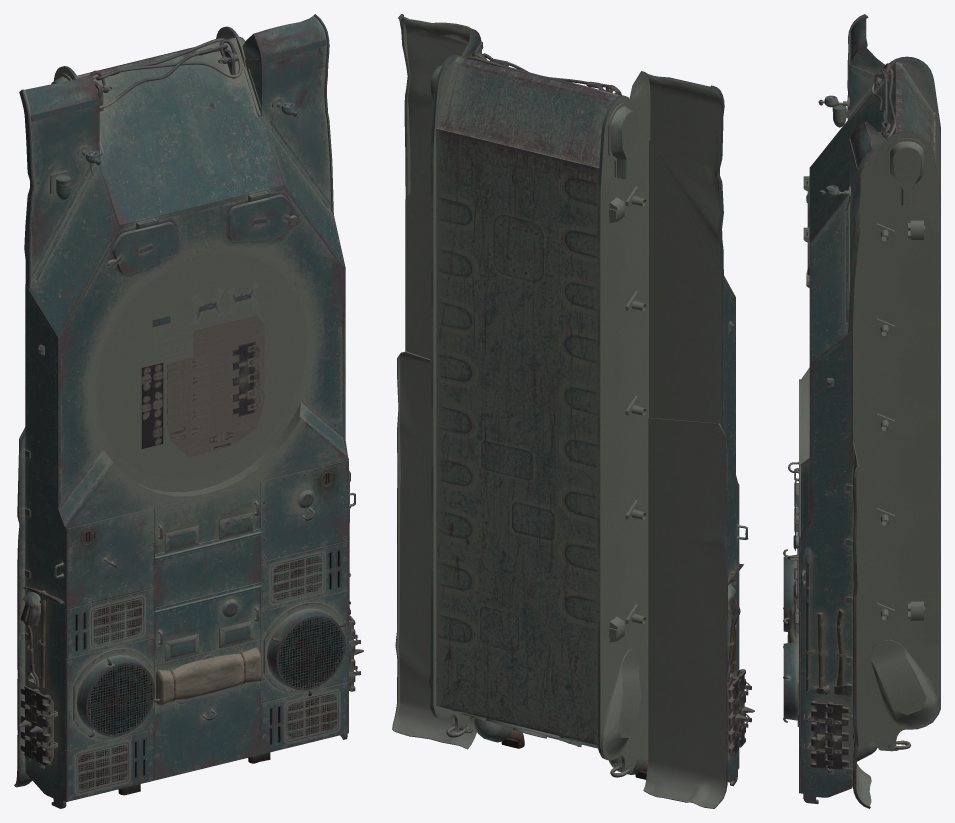
File: Hull.glb
The picture shows the model from 3 angles, left to right: view 1: azimuth 30°, elevation 25°; view 2: azimuth 150°, elevation 25°; view 3: azimuth 270°, elevation 25°; orthographic projection. The views are drawn at different scales.
Visible parts, largest first — view 1: set_0_group_0; view 2: set_0_group_0; view 3: set_0_group_0.
Boxes of the visible parts, x1,y1,x2,y2 form: set_0_group_0: [14, 14, 363, 808]; set_0_group_0: [392, 14, 754, 808]; set_0_group_0: [783, 14, 940, 808].
Bounding box in the file's own units: 3.62 × 7.23 × 1.56.
1 material, 1 textured.
